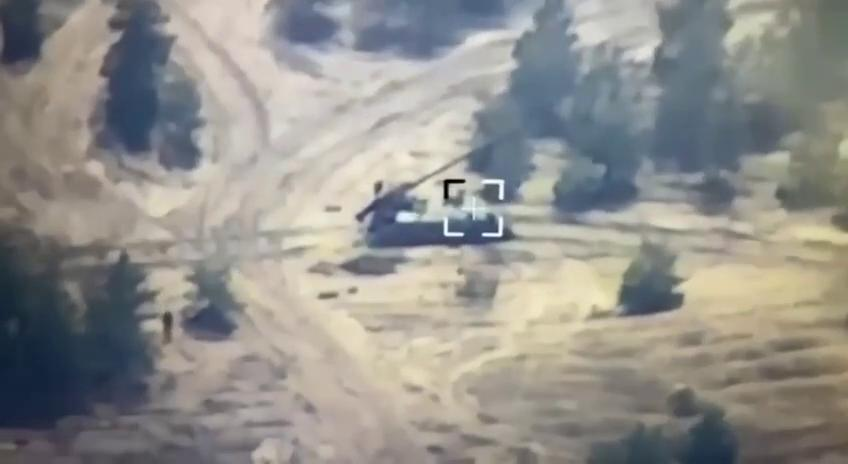tank: (356, 144, 512, 246)
